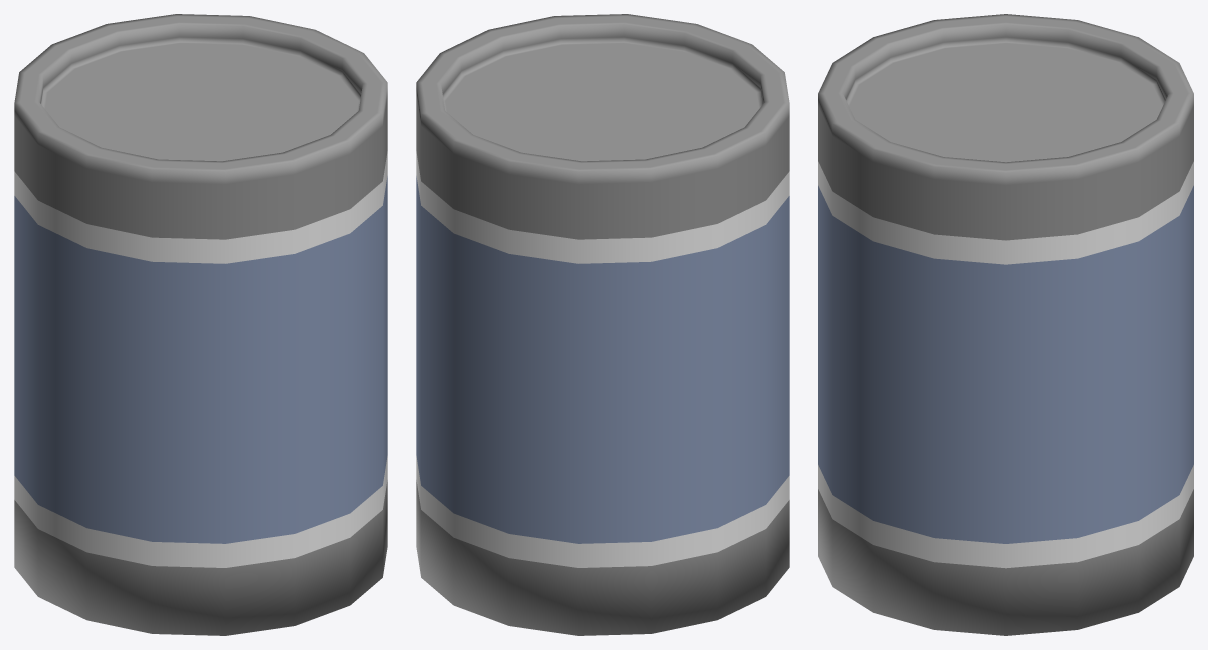
File: Tin.glb
3 renders of one model, left to right at view 1: azimuth 30°, elevation 25°; view 2: azimuth 150°, elevation 25°; view 3: azimuth 270°, elevation 25°, orthographic.
Visible parts, largest first — view 1: Tin; view 2: Tin; view 3: Tin.
Part boxes in pixels (<box>): Tin: <box>14,14,387,635</box>; Tin: <box>416,14,789,635</box>; Tin: <box>818,14,1193,635</box>.
Bounding box in the file's own units: 0.1946 × 0.2647 × 0.1946.
1 material, 1 textured.
